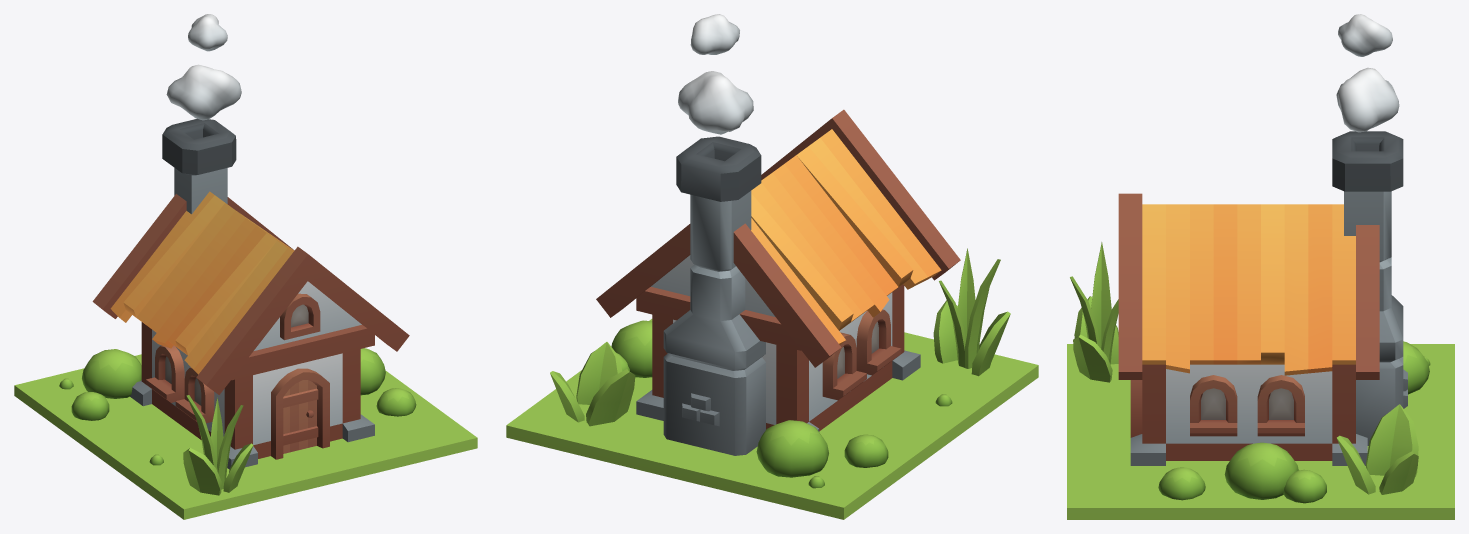
File: cabin.glb
3 views of the same model, side by side, from view 1: azimuth 30°, elevation 25°; view 2: azimuth 150°, elevation 25°; view 3: azimuth 270°, elevation 25° (orthographic). The views are drawn at different scales.
Parts seen in each view (by area): view 1: Cabin; view 2: Cabin; view 3: Cabin.
Part boxes in pixels (bbox=[...]): Cabin: bbox=[14, 14, 477, 519]; Cabin: bbox=[506, 14, 1038, 519]; Cabin: bbox=[1067, 14, 1454, 519].
Bounding box in the file's own units: 0.29 × 0.357 × 0.29.
Materials: 3 (3 with a texture image).
